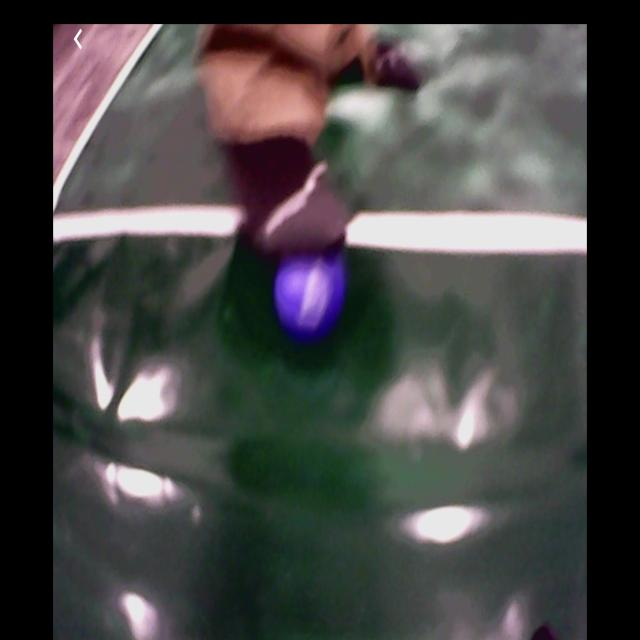ball: (276, 249, 346, 331)
